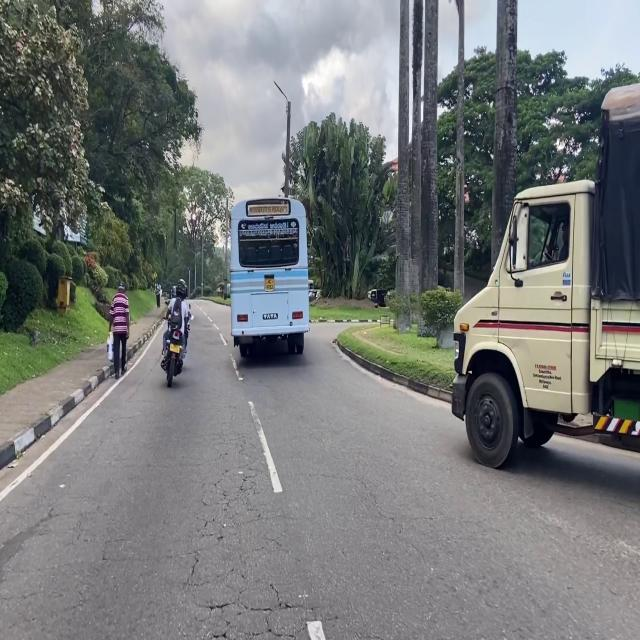bus: (230, 198, 310, 357)
motorcycle: (161, 328, 184, 387)
person: (162, 279, 189, 357), (109, 282, 129, 379), (155, 283, 161, 308)
truck: (452, 84, 640, 467)
